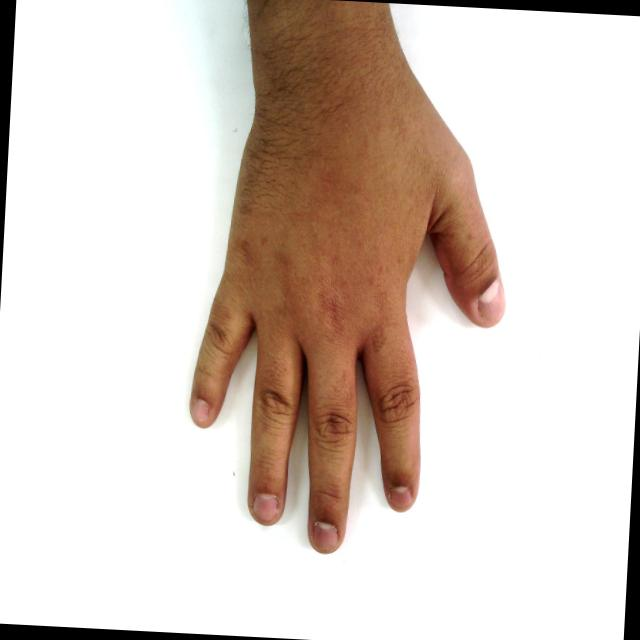Nail: (476, 275, 506, 327), (252, 494, 278, 522), (313, 522, 338, 550), (388, 487, 414, 512), (191, 399, 209, 424)
